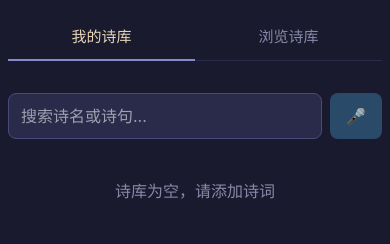
LibraryTab › switching to 浏览诗库 shows the browse search input
Click the tab "浏览诗库" at (288, 38), box 195,16 -> 382,60
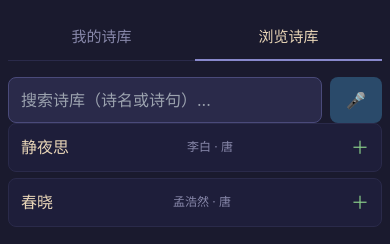
Expected: the field with placeholder "搜索诗库（诗名或诗句）..." is shown, 8,76 -> 322,122
